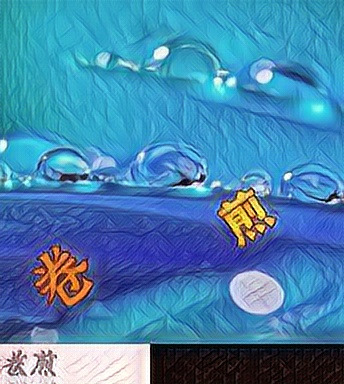BCE5: (216, 185, 279, 252)
BEED: (30, 244, 93, 311)
